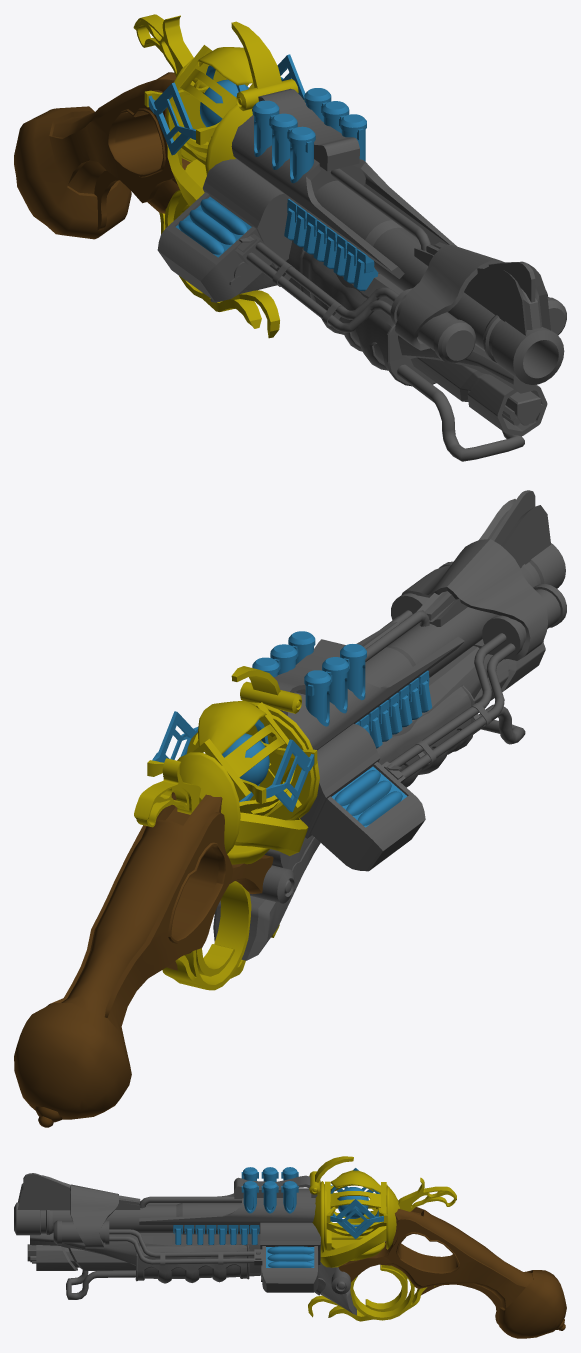
Rendered from Hex_gun_Full.fbx.
3 views of the same model, one above another, from view 1: azimuth 30°, elevation 25°; view 2: azimuth 150°, elevation 25°; view 3: azimuth 270°, elevation 25° (orthographic). The views are drawn at different scales.
Parts seen in each view (by area): view 1: polySurface11, pCylinder108, pPlane83, pCube100, pCylinder112, pCube106, pCylinder123, pCube105, pCube97, pCylinder122, pCylinder111, pCube120 (+26 smaller); view 2: polySurface11, pPlane83, pCube106, pCylinder108, pCube105, pPlane81, pCube100, pCylinder122, pCube120, pPlane79, pCube97, pCylinder112 (+22 smaller); view 3: polySurface11, pPlane83, pCube123, pCylinder108, pPlane81, pCylinder123, pCube124, pCube106, pCube126, pCube100, pCylinder139, pCylinder111 (+21 smaller).
Boxes of the visible parts, left/top/right/bottom form: polySurface11: left=14, top=90, right=174, bottom=239; pCylinder108: left=314, top=180, right=564, bottom=384; pPlane83: left=52, top=72, right=190, bottom=213; pCube100: left=414, top=242, right=550, bottom=335; pCylinder112: left=202, top=159, right=292, bottom=268; pCube106: left=395, top=244, right=547, bottom=350; pCylinder123: left=299, top=247, right=436, bottom=386; pCube105: left=157, top=192, right=271, bottom=301; pCube97: left=231, top=115, right=404, bottom=278; pCylinder122: left=235, top=234, right=398, bottom=332; pCylinder111: left=411, top=357, right=547, bottom=436; pCube120: left=144, top=68, right=236, bottom=164; polySurface11: left=14, top=812, right=232, bottom=1119; pPlane83: left=61, top=792, right=273, bottom=1016; pCube106: left=401, top=539, right=547, bottom=660; pCylinder108: left=365, top=543, right=565, bottom=687; pCube105: left=311, top=762, right=425, bottom=871; pPlane81: left=213, top=646, right=492, bottom=960; pCube100: left=417, top=490, right=550, bottom=626; pCylinder122: left=382, top=633, right=515, bottom=783; pCube120: left=224, top=724, right=317, bottom=816; pPlane79: left=162, top=881, right=279, bottom=990; pCube97: left=287, top=636, right=464, bottom=750; pCylinder112: left=300, top=723, right=380, bottom=838; polySurface11: left=387, top=1218, right=566, bottom=1338; pPlane83: left=338, top=1207, right=532, bottom=1308; pCube123: left=260, top=1222, right=320, bottom=1292; pCylinder108: left=14, top=1202, right=260, bottom=1235; pPlane81: left=30, top=1233, right=356, bottom=1315; pCylinder123: left=135, top=1244, right=249, bottom=1283; pCube124: left=139, top=1191, right=315, bottom=1224; pCube106: left=70, top=1184, right=118, bottom=1248; pCube126: left=326, top=1191, right=387, bottom=1239; pCube100: left=17, top=1173, right=140, bottom=1210; pCylinder139: left=109, top=1229, right=262, bottom=1265; pCylinder111: left=36, top=1245, right=135, bottom=1270.
Bounding box in the file's own units: 5.59 × 7.69 × 21.68.
